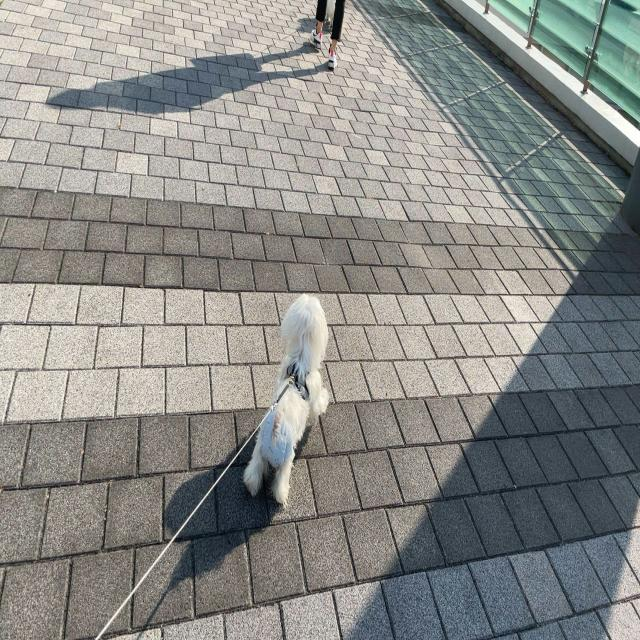Dog: (241, 292, 330, 512)
